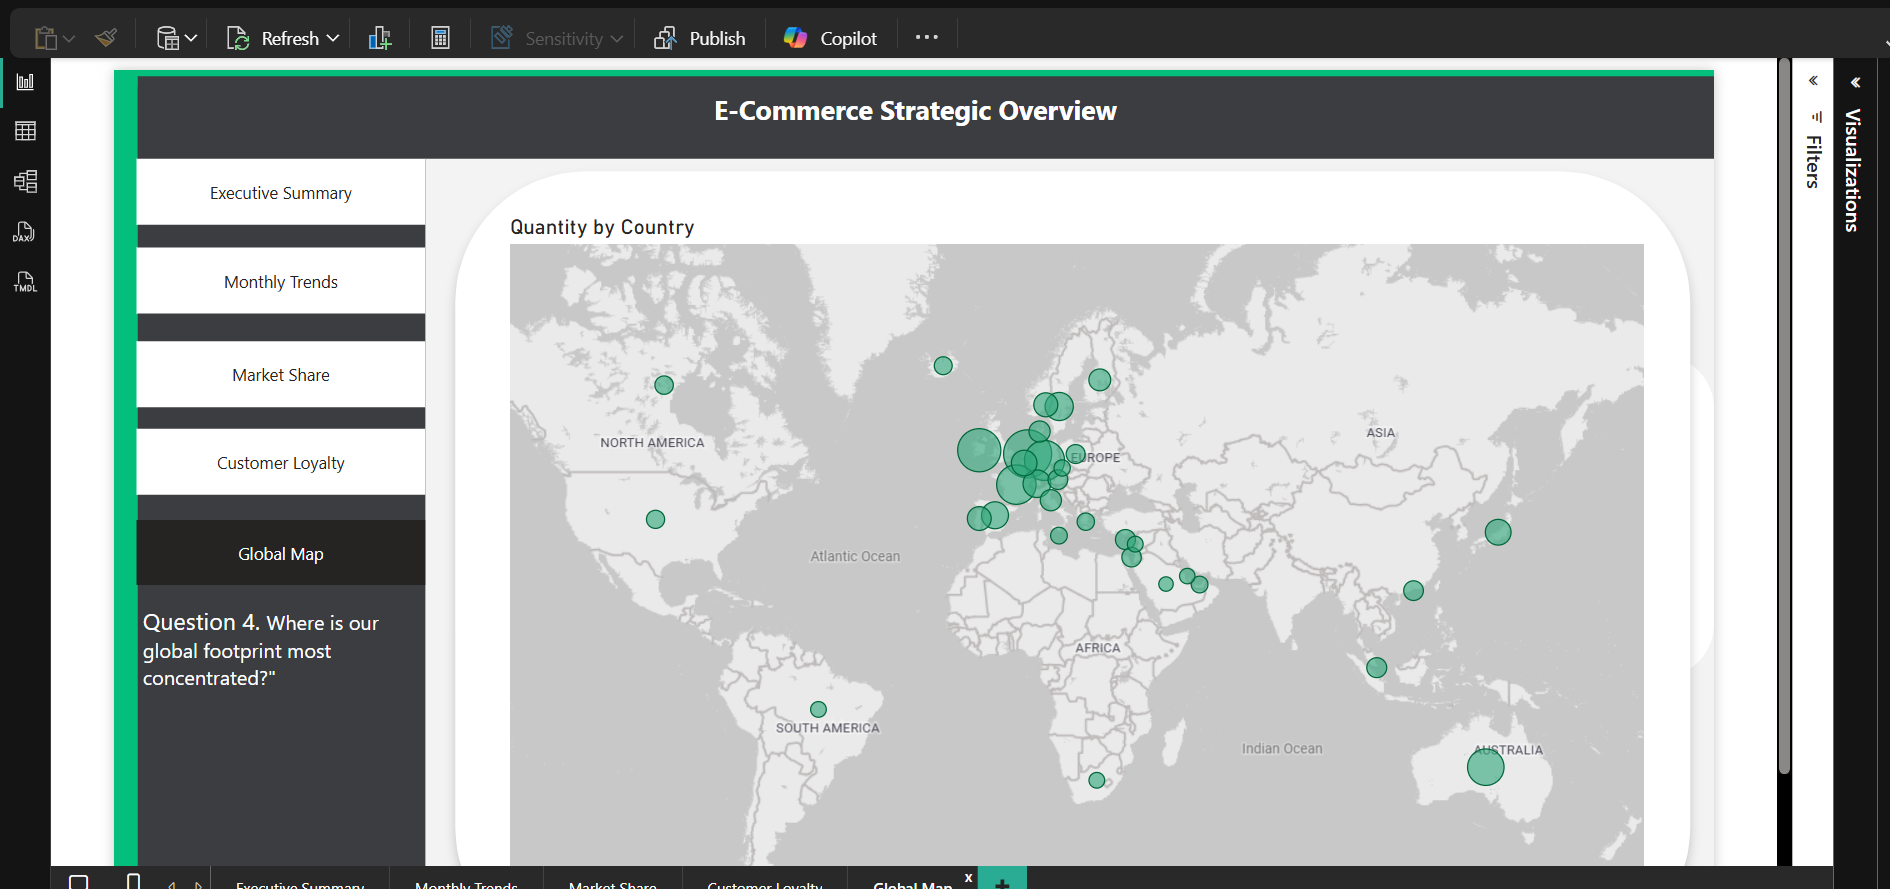

What the dashboard file says about the page in this screenshot:
{"tool":"powerbi","page":{"name":"Global Map","canvas":[1280,720],"ordinal":4},"visuals":[{"type":"map","fields":{"Category":["Online Retail.Country"],"Size":["Sum(Online Retail.Quantity)"]},"box":[311.7,115.3,917.8,555.8],"z":0},{"type":"pageNavigator","box":[18.4,71.2,230.7,52.8],"z":1000},{"type":"pageNavigator","box":[18.4,142.3,230.7,52.8],"z":2000},{"type":"pageNavigator","box":[18.4,217.2,230.7,52.8],"z":3000},{"type":"pageNavigator","box":[18.4,287.1,230.7,52.8],"z":4000},{"type":"pageNavigator","box":[18.4,359.5,230.7,52.8],"z":5000},{"type":"textbox","box":[382.8,12.3,516.6,71.2],"z":6000},{"type":"textbox","box":[18.4,423.3,230.7,119],"z":7000}]}

Visuals, with their boxes on the page's 1280x720 design canvas (x1, y1, x2, y2). These are canvas units, not pixel positions in the 1890x889 screenshot, which may show the page scaled, cropped or inside an application window:
map - Online Retail.Country x Sum(Online Retail.Quantity): <box>312,115,1230,671</box>
pageNavigator: <box>18,71,249,124</box>
pageNavigator: <box>18,142,249,195</box>
pageNavigator: <box>18,217,249,270</box>
pageNavigator: <box>18,287,249,340</box>
pageNavigator: <box>18,360,249,412</box>
textbox: <box>383,12,899,84</box>
textbox: <box>18,423,249,542</box>
